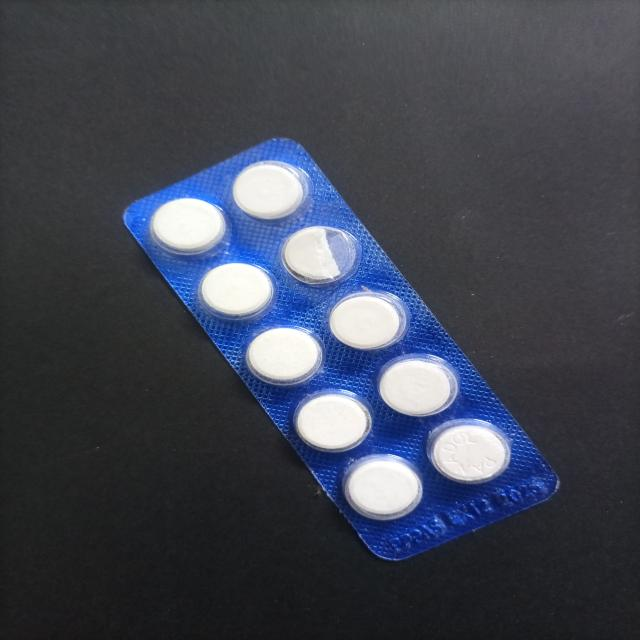defect: (279, 223, 364, 290)
